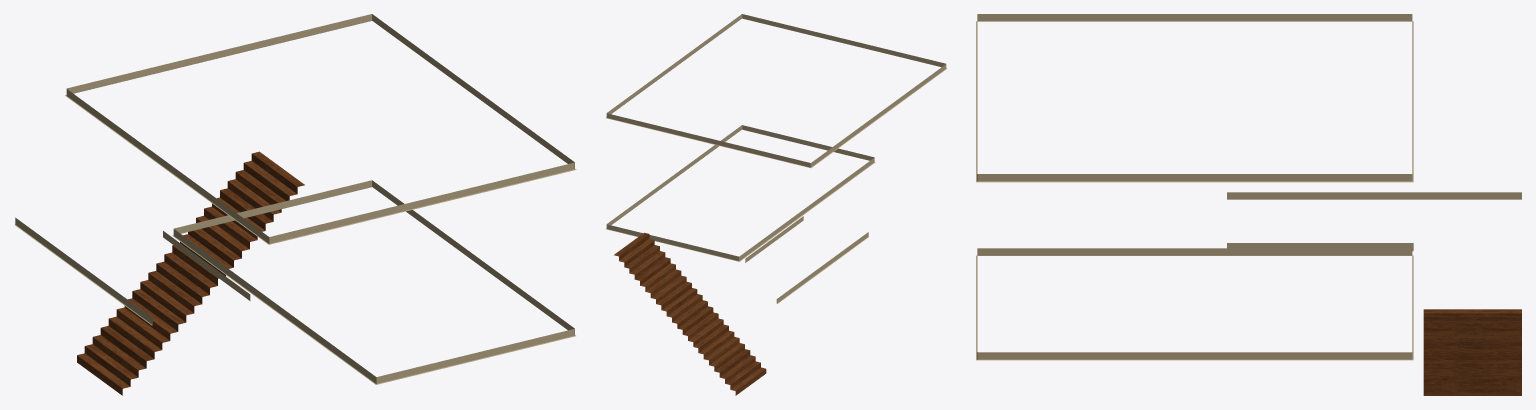
Rendered from kornelius wall edge stairs.fbx.
3 renders of one model, left to right at view 1: azimuth 30°, elevation 25°; view 2: azimuth 150°, elevation 25°; view 3: azimuth 270°, elevation 25°, orthographic. The views are drawn at different scales.
Visible parts, largest first — view 1: ground floor stairs, wall edge.002, wall edge.003; view 2: ground floor stairs, wall edge.003, wall edge.002; view 3: wall edge.002, ground floor stairs, wall edge.003.
Boxes of the visible parts, x1=… form: ground floor stairs: x1=77, y1=151, x2=304, y2=395; wall edge.002: x1=15, y1=180, x2=575, y2=384; wall edge.003: x1=65, y1=14, x2=576, y2=244; ground floor stairs: x1=614, y1=232, x2=766, y2=395; wall edge.003: x1=606, y1=14, x2=947, y2=167; wall edge.002: x1=606, y1=125, x2=875, y2=303; wall edge.002: x1=976, y1=192, x2=1521, y2=360; ground floor stairs: x1=1423, y1=309, x2=1521, y2=395; wall edge.003: x1=976, y1=14, x2=1413, y2=182.
Bounding box in the file's own units: 775 × 785 × 1110.
